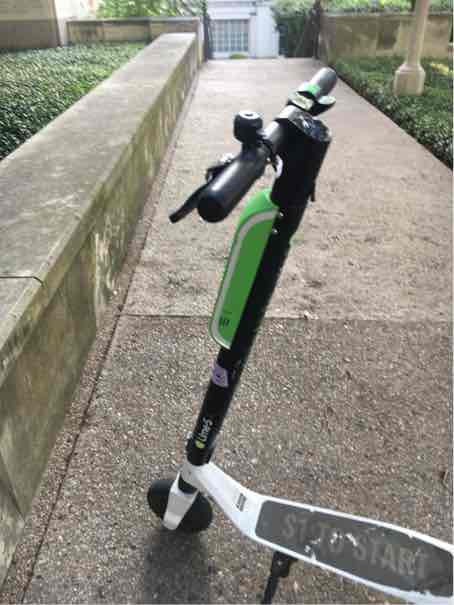scooter: (130, 87, 442, 605)
